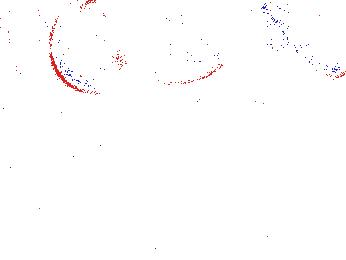moon jellyfish: (116, 9, 224, 86), (49, 1, 136, 96), (263, 1, 346, 80)
